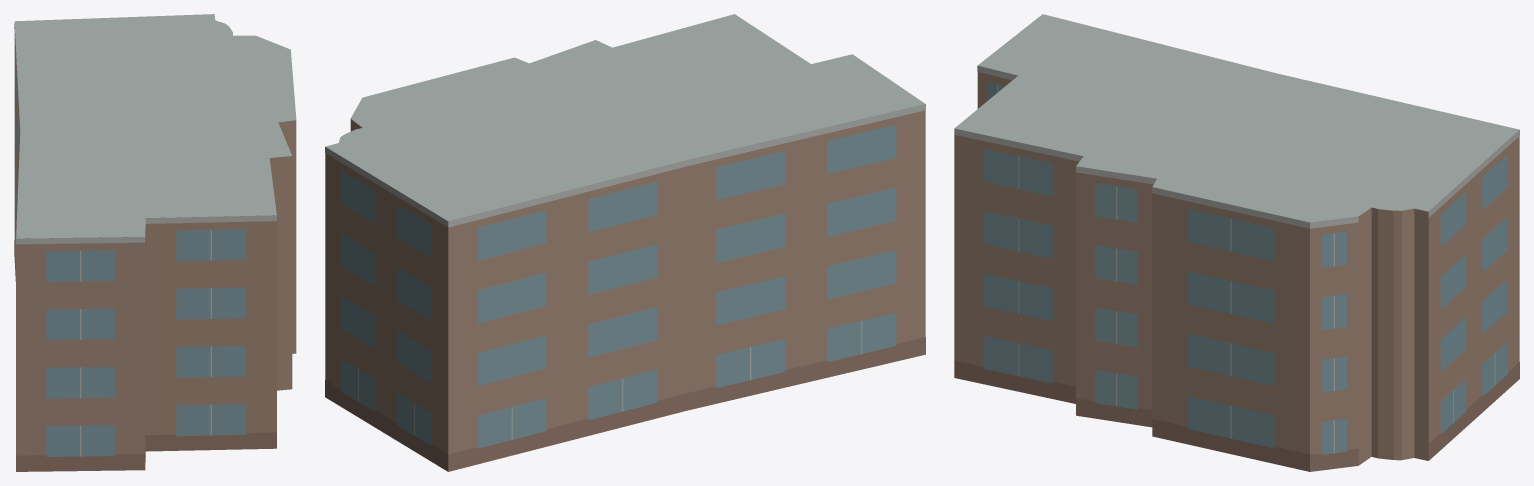
File: survey-upis-32946180.glb
The picture shows the model from 3 angles, left to right: view 1: azimuth 30°, elevation 25°; view 2: azimuth 150°, elevation 25°; view 3: azimuth 270°, elevation 25°; orthographic projection. The views are drawn at different scales.
Visible parts, largest first — view 1: survey-upis-32946180.tmp; view 2: survey-upis-32946180.tmp; view 3: survey-upis-32946180.tmp.
Boxes of the visible parts, x1,y1,x2,y2 form: survey-upis-32946180.tmp: [14, 14, 296, 471]; survey-upis-32946180.tmp: [325, 14, 925, 471]; survey-upis-32946180.tmp: [954, 14, 1519, 471].
Bounding box in the file's own units: 17.58 × 9.8 × 20.15.
